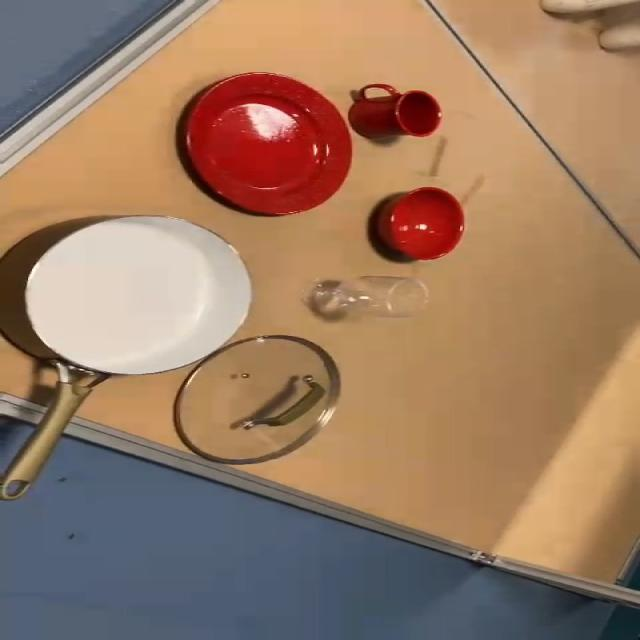Bowl: (390, 181, 470, 262)
Glass: (305, 276, 430, 322)
Plate: (185, 77, 355, 214)
cup: (347, 80, 455, 144)
pot: (0, 214, 265, 496)
